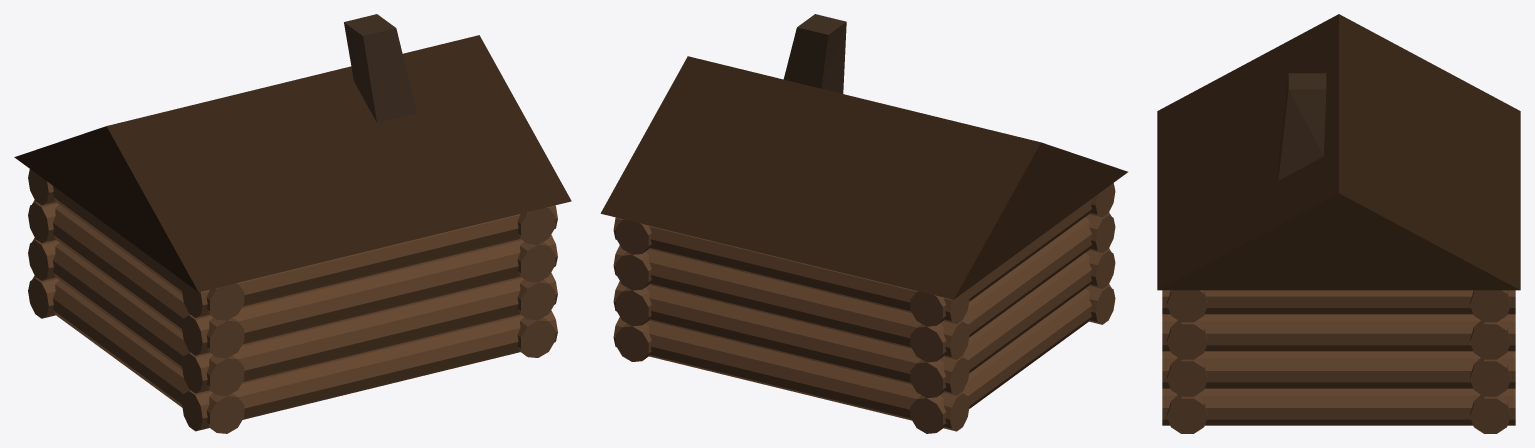
Rendered from forest_cabin.obj.
3 renders of one model, left to right at view 1: azimuth 30°, elevation 25°; view 2: azimuth 150°, elevation 25°; view 3: azimuth 270°, elevation 25°, orthographic. The views are drawn at different scales.
Parts seen in each view (by area): view 1: ForestCabin; view 2: ForestCabin; view 3: ForestCabin.
Part boxes in pixels (x1,y1,x2,y2): ForestCabin: (14, 14, 571, 433); ForestCabin: (600, 14, 1127, 433); ForestCabin: (1157, 14, 1520, 433).
Size of the model in its own units: 0.672 by 0.52 by 0.576.
